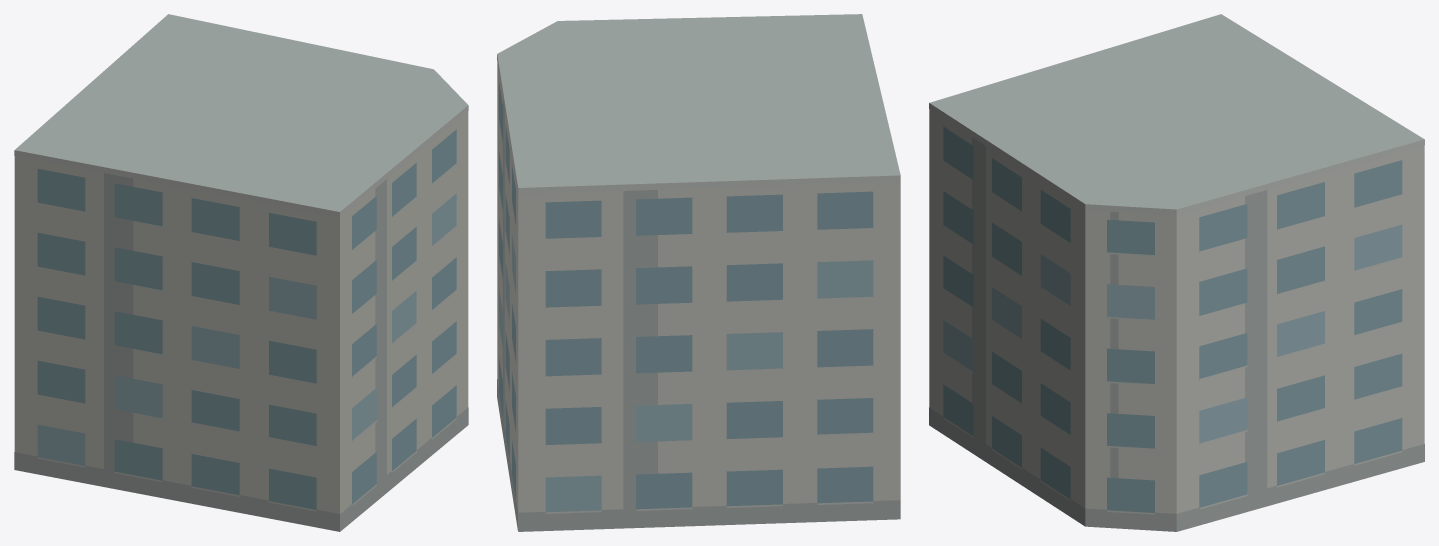
File: survey-upis-33038170.glb
The picture shows the model from 3 angles, left to right: view 1: azimuth 30°, elevation 25°; view 2: azimuth 150°, elevation 25°; view 3: azimuth 270°, elevation 25°; orthographic projection. The views are drawn at different scales.
Parts seen in each view (by area): view 1: survey-upis-33038170.tmp; view 2: survey-upis-33038170.tmp; view 3: survey-upis-33038170.tmp.
Boxes of the visible parts, x1,y1,x2,y2 form: survey-upis-33038170.tmp: [14, 14, 468, 531]; survey-upis-33038170.tmp: [497, 14, 900, 531]; survey-upis-33038170.tmp: [929, 14, 1424, 531].
Size of the model in its own units: 17.04 by 13.1 by 18.26.
